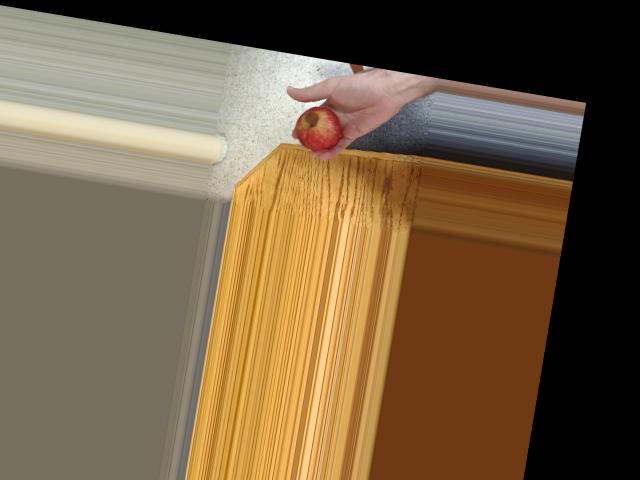apple: (291, 99, 350, 155)
